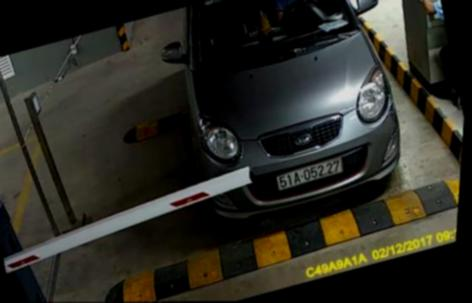License_Plate: (269, 155, 353, 196)
